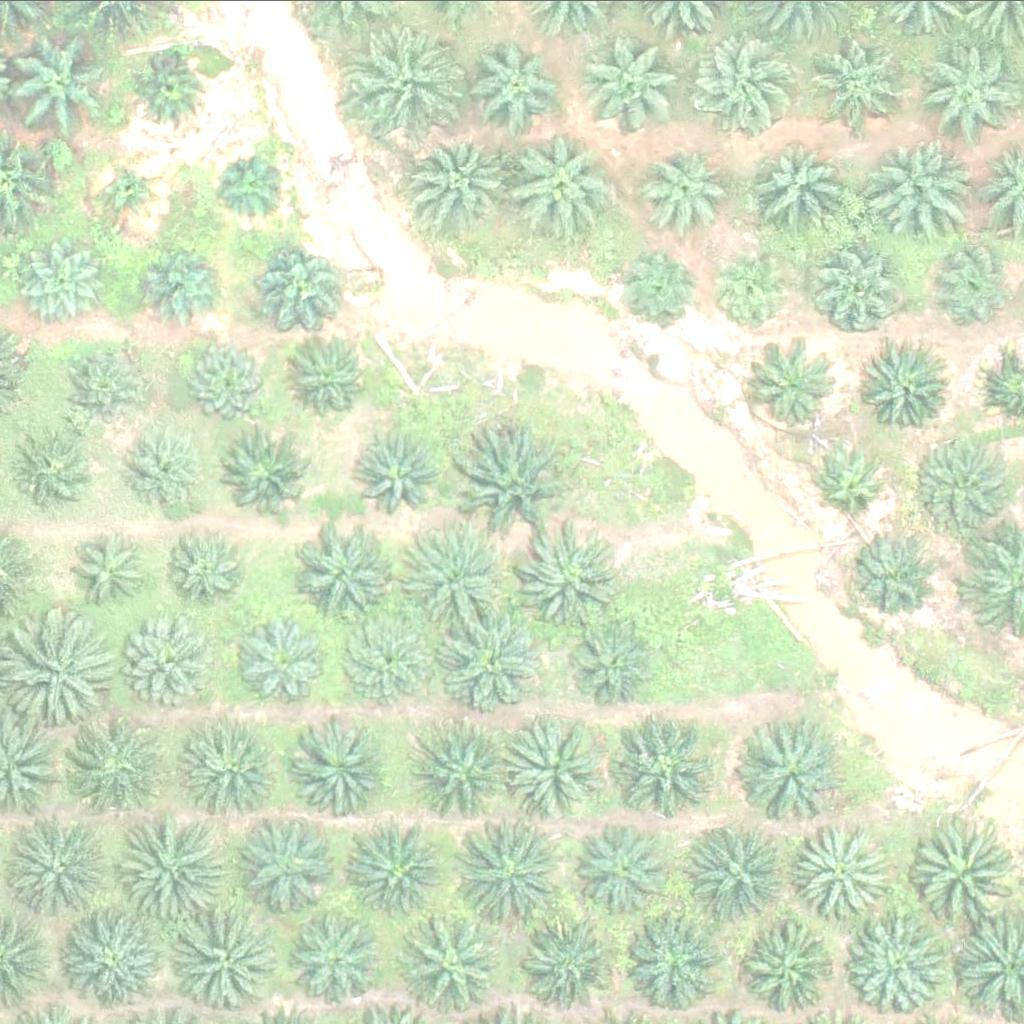Kelapa_Sawit: (352, 26, 466, 139), (112, 809, 225, 922), (457, 428, 570, 541), (2, 804, 116, 916), (1, 611, 115, 723), (2, 18, 115, 130), (909, 818, 1022, 930), (394, 526, 507, 638), (452, 814, 565, 926), (59, 905, 160, 1005), (184, 906, 285, 1006), (236, 813, 337, 913), (71, 720, 172, 820), (186, 716, 287, 816), (294, 715, 395, 815), (746, 726, 847, 826), (795, 819, 896, 919), (740, 921, 841, 1021), (848, 914, 949, 1014), (694, 34, 795, 134), (635, 142, 736, 242), (518, 532, 619, 632), (435, 607, 536, 707), (504, 723, 605, 823), (416, 723, 517, 823), (348, 819, 449, 919), (233, 607, 333, 707), (297, 521, 397, 621), (755, 136, 855, 236), (871, 133, 971, 233), (909, 434, 1009, 534), (697, 821, 797, 921), (579, 30, 679, 130), (409, 126, 509, 226), (515, 135, 615, 235), (614, 717, 714, 817), (573, 821, 673, 921), (618, 909, 718, 1009), (398, 917, 498, 1017), (514, 912, 614, 1012), (164, 528, 253, 616), (340, 614, 429, 702), (18, 422, 106, 510), (24, 235, 112, 323), (263, 238, 351, 326), (825, 32, 913, 120), (712, 244, 800, 332), (930, 240, 1018, 328), (850, 531, 938, 619), (290, 334, 378, 421), (183, 339, 271, 426), (62, 339, 150, 426), (71, 532, 159, 619), (122, 429, 210, 516), (222, 433, 310, 520), (293, 916, 381, 1003), (134, 613, 222, 700), (130, 241, 218, 328), (813, 243, 901, 330), (754, 341, 842, 428), (859, 345, 947, 432), (476, 42, 564, 129), (613, 243, 701, 330), (359, 428, 447, 515), (566, 619, 654, 706), (816, 441, 892, 516), (131, 53, 207, 128), (214, 147, 289, 222), (103, 158, 166, 221)
